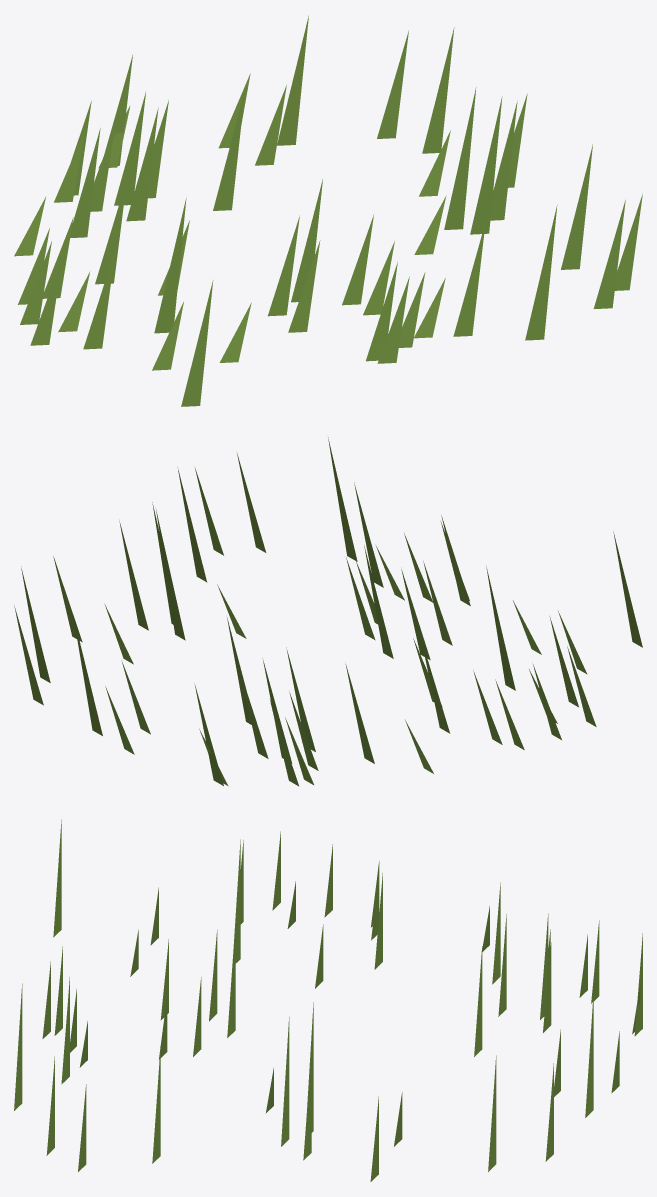
The model's file is grass.glb.
The picture shows the model from 3 angles, top to bottom: view 1: azimuth 30°, elevation 25°; view 2: azimuth 150°, elevation 25°; view 3: azimuth 270°, elevation 25°; orthographic projection. The views are drawn at different scales.
Bounding box in the file's own units: 2.85 × 0.6851 × 2.62.
Materials: 1 (1 with a texture image).
